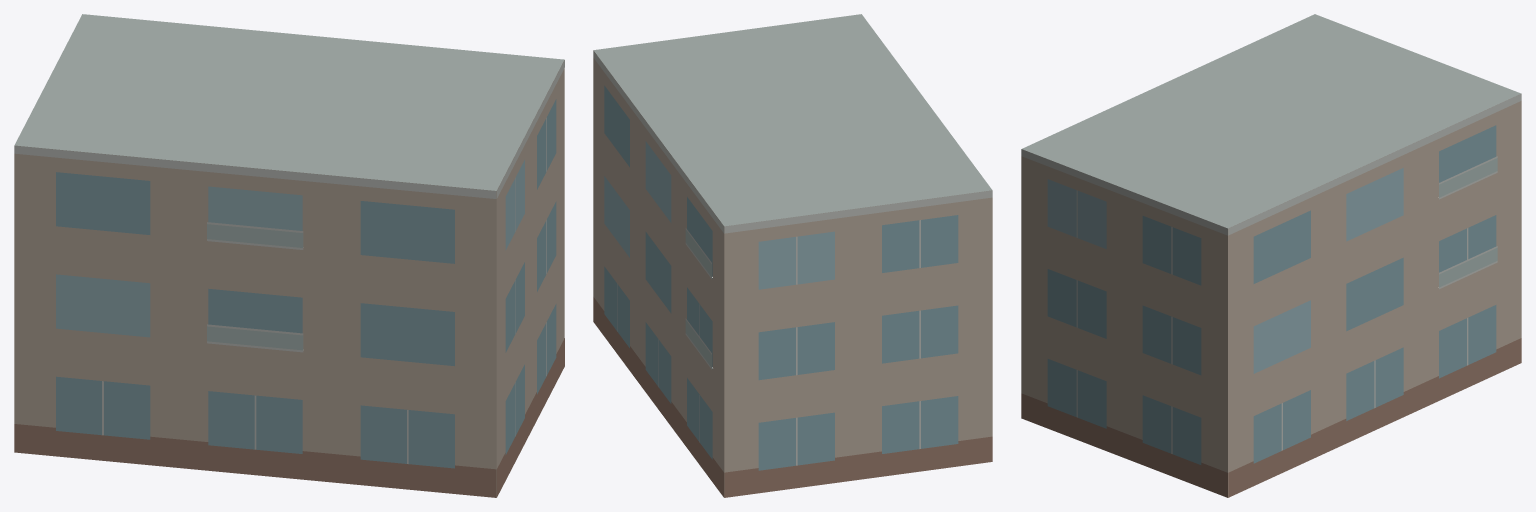
Rendered from survey-upis-32722291.glb.
3 views of the same model, side by side, from view 1: azimuth 30°, elevation 25°; view 2: azimuth 150°, elevation 25°; view 3: azimuth 270°, elevation 25° (orthographic). The views are drawn at different scales.
Visible parts, largest first — view 1: survey-upis-32722291.tmp; view 2: survey-upis-32722291.tmp; view 3: survey-upis-32722291.tmp.
Boxes of the visible parts, left/top/right/bottom form: survey-upis-32722291.tmp: left=14, top=14, right=564, bottom=497; survey-upis-32722291.tmp: left=593, top=14, right=992, bottom=497; survey-upis-32722291.tmp: left=1021, top=14, right=1521, bottom=497.
Bounding box in the file's own units: 15.64 × 9.15 × 15.4.
